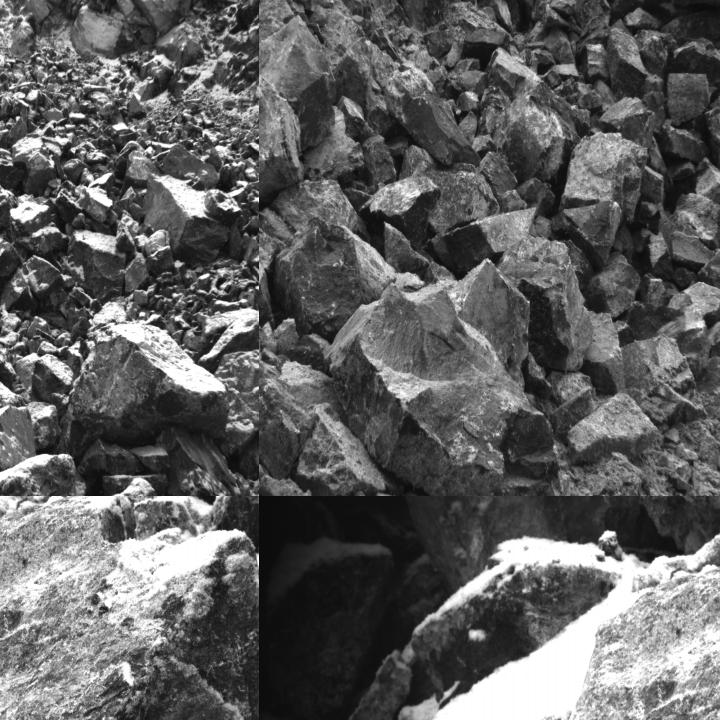stone: (0, 496, 258, 719), (325, 282, 563, 495), (511, 552, 719, 719), (410, 562, 624, 702), (264, 538, 399, 719), (65, 320, 226, 453), (389, 496, 572, 594), (470, 46, 592, 192), (259, 13, 337, 220), (274, 217, 397, 343), (495, 235, 592, 371), (386, 68, 481, 167), (398, 145, 500, 234), (446, 268, 532, 368), (294, 405, 386, 495), (620, 334, 708, 424), (559, 134, 648, 222), (144, 175, 228, 265), (428, 207, 536, 276), (259, 358, 313, 480), (568, 392, 657, 464), (358, 176, 442, 250), (270, 180, 370, 242), (160, 427, 244, 495), (550, 200, 623, 270), (65, 228, 129, 304), (303, 106, 364, 182), (536, 370, 596, 447), (221, 341, 258, 461), (0, 453, 104, 495), (1, 256, 71, 311), (581, 310, 625, 394), (584, 252, 640, 316), (200, 310, 258, 369), (606, 20, 647, 100), (477, 151, 527, 213), (0, 405, 37, 487), (243, 282, 258, 480), (9, 198, 61, 254), (78, 436, 143, 480), (598, 97, 654, 148), (671, 192, 719, 250), (667, 73, 716, 126), (383, 221, 430, 273), (665, 282, 719, 327), (552, 386, 594, 443), (162, 146, 216, 187), (31, 352, 77, 399), (660, 121, 709, 162), (23, 398, 62, 447), (695, 355, 719, 434), (362, 134, 397, 188), (515, 177, 555, 222), (397, 0, 451, 33), (122, 148, 159, 196), (336, 96, 376, 140), (669, 231, 715, 268), (546, 370, 594, 404), (340, 179, 385, 212), (462, 29, 511, 58), (145, 229, 173, 277), (204, 190, 242, 225), (0, 227, 21, 290), (704, 108, 719, 195), (695, 156, 719, 208), (370, 26, 401, 62), (124, 253, 150, 294), (640, 165, 663, 204), (0, 183, 17, 228), (624, 8, 662, 28), (708, 313, 719, 371), (459, 111, 478, 144), (612, 320, 635, 347), (395, 272, 424, 292), (532, 216, 554, 240), (709, 250, 719, 301), (385, 135, 409, 156), (711, 65, 719, 118), (472, 134, 496, 151)
